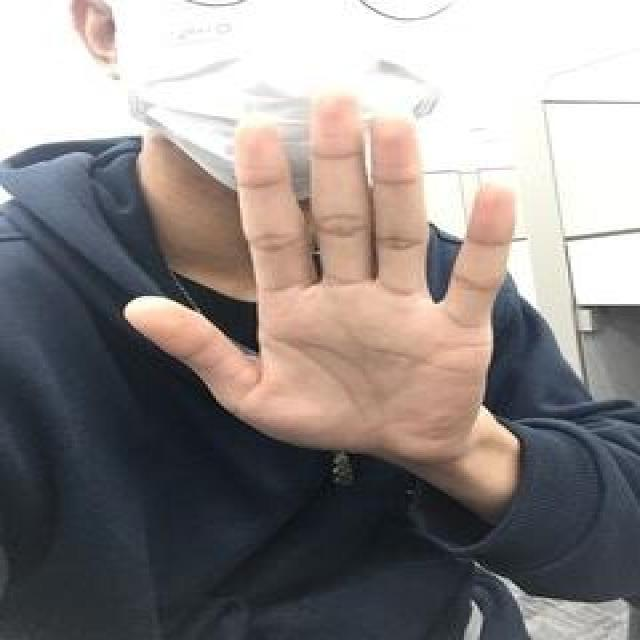hand: (123, 86, 515, 474)
